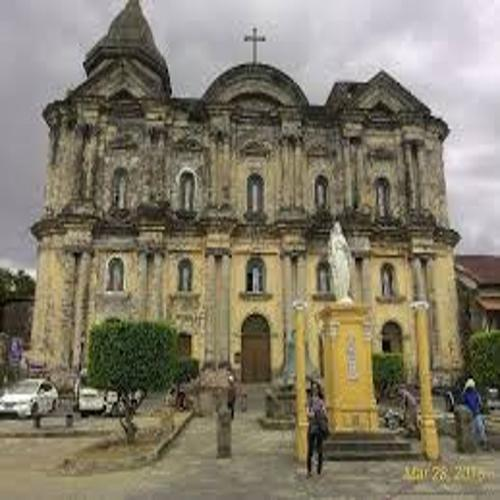Taal Basilica Church: (28, 1, 466, 401)
